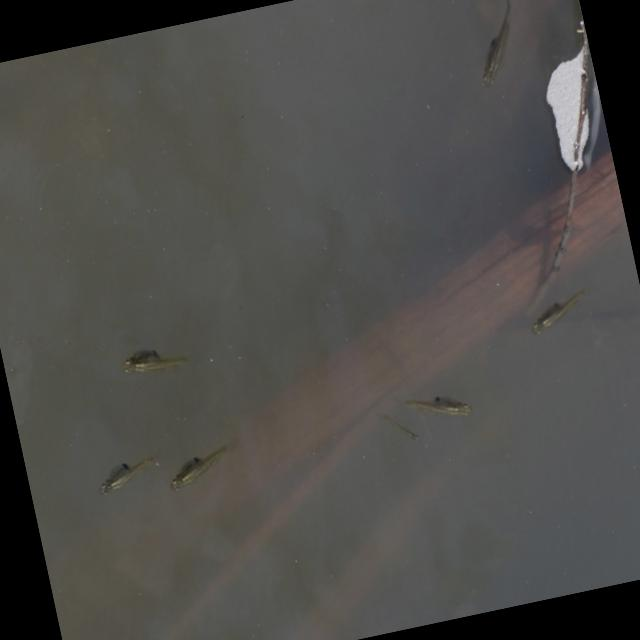Sivrisinek Baligi: (450, 0, 539, 98), (510, 275, 602, 352), (80, 439, 164, 512), (116, 328, 201, 398), (159, 433, 237, 500), (402, 382, 472, 434), (377, 402, 418, 458)
